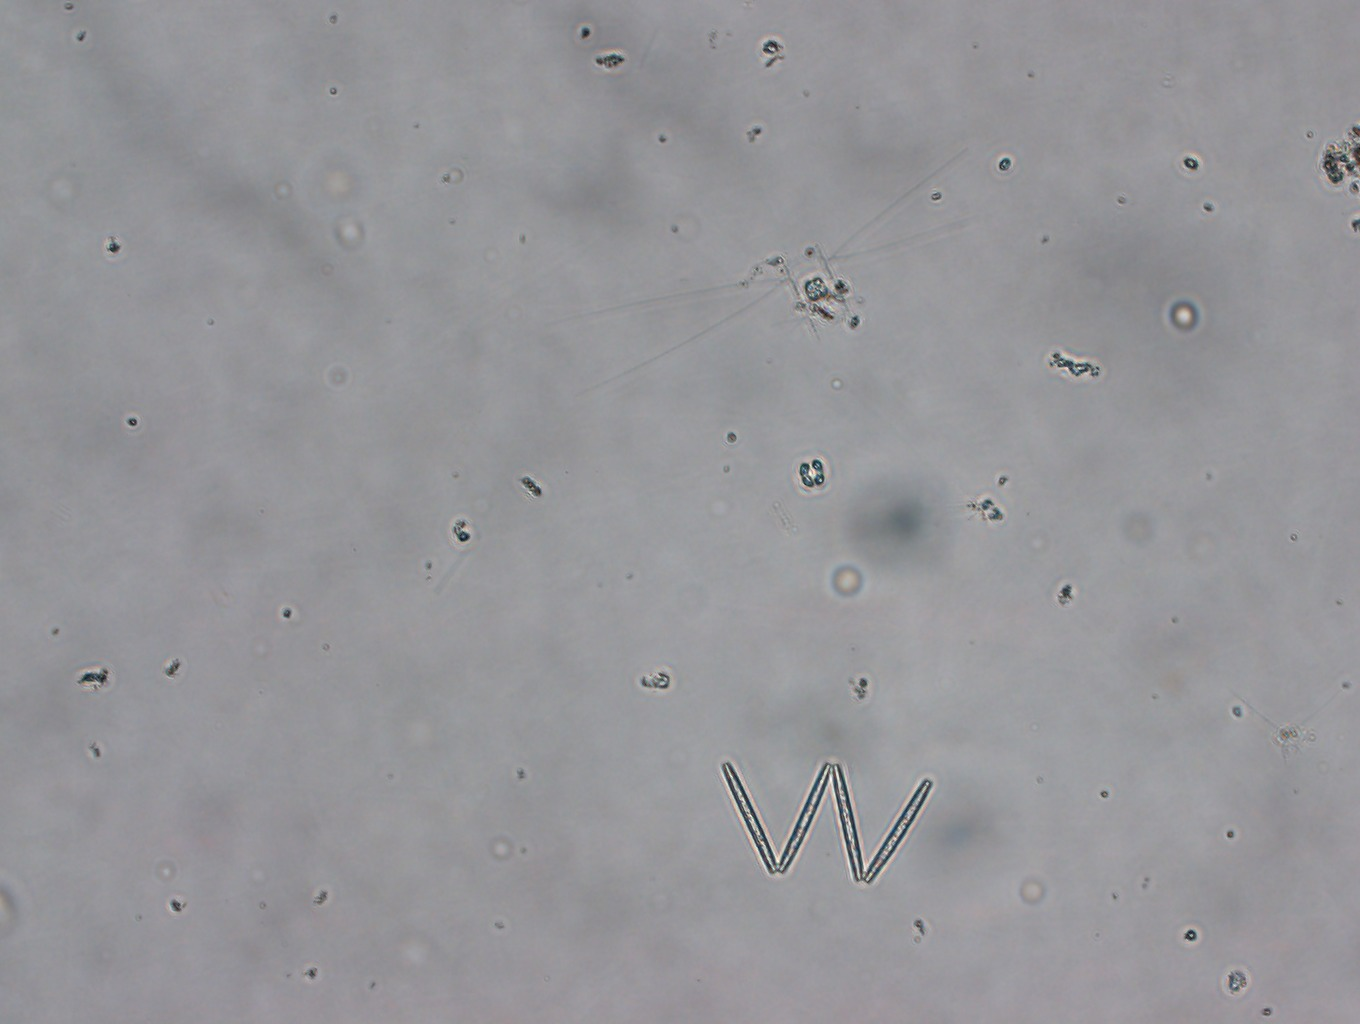chaetoceros: (555, 146, 997, 398)
thalassionema nitzschioides: (718, 759, 930, 886)
